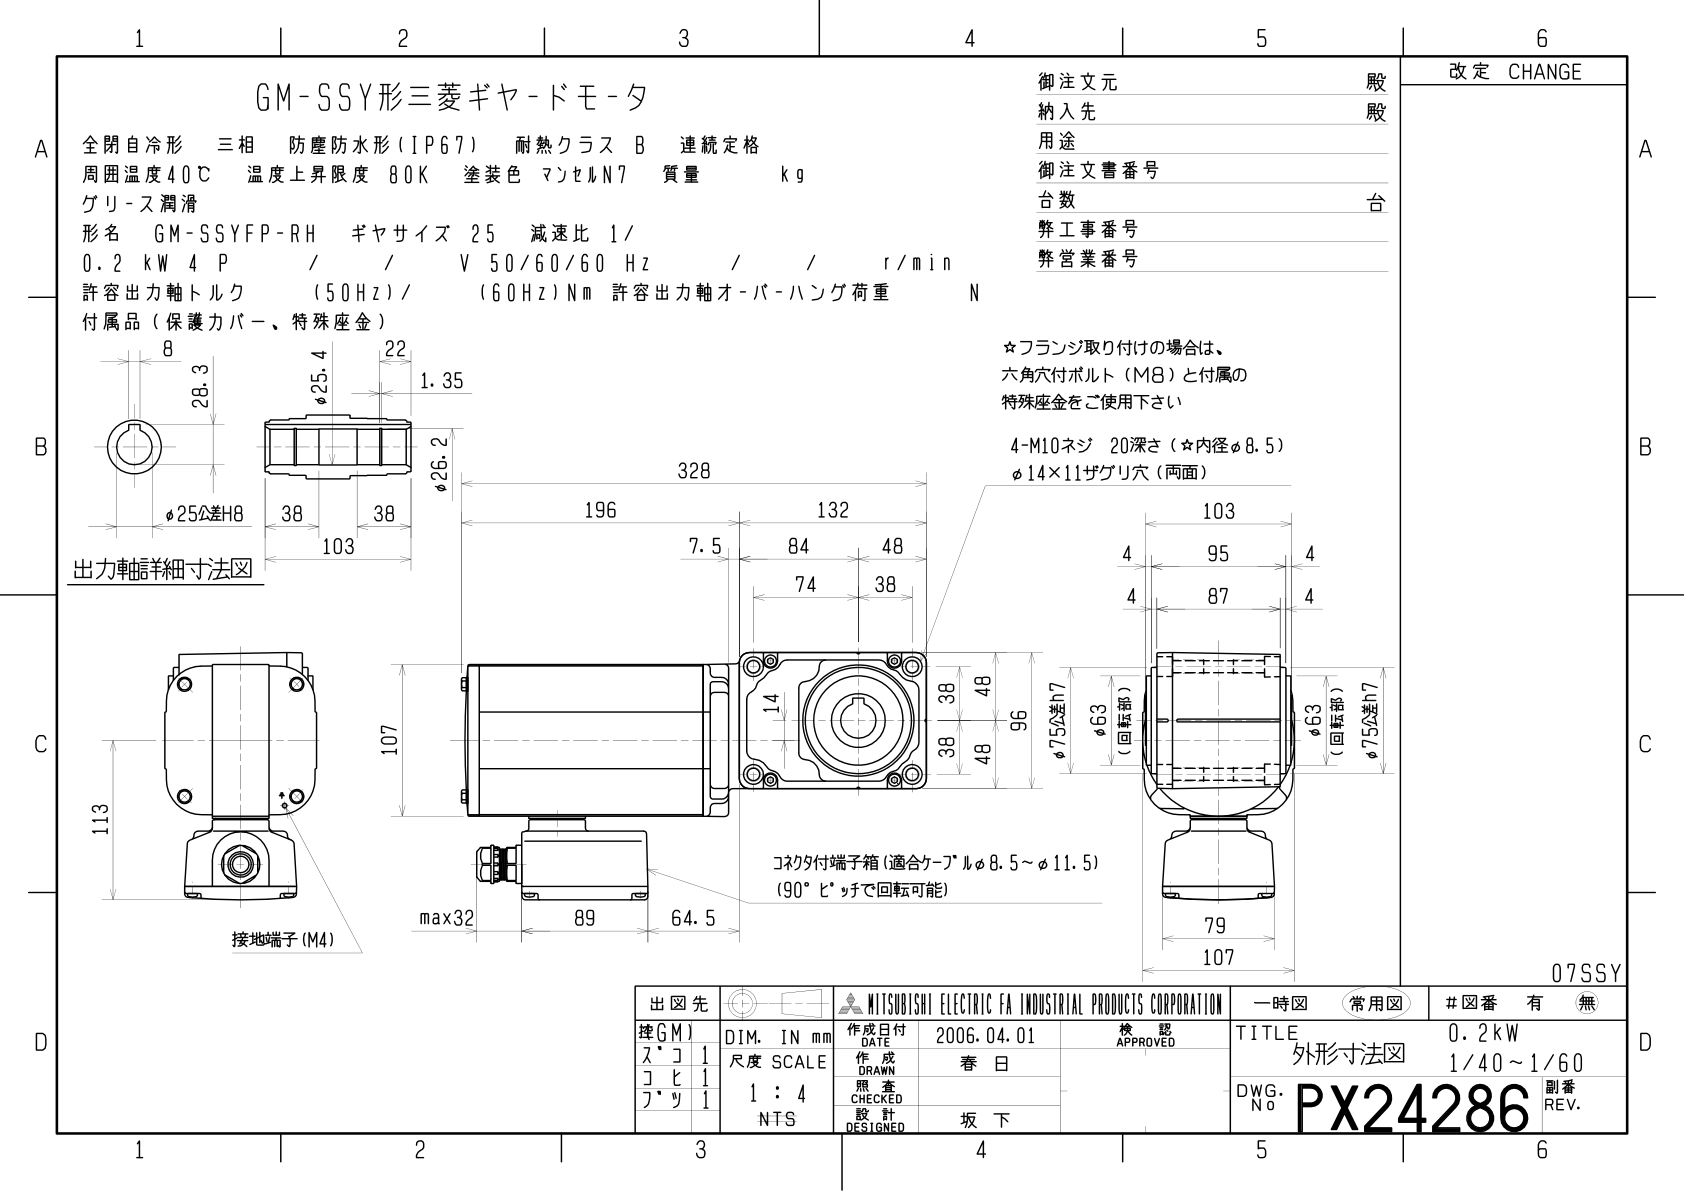GM_SSY_IP67_三相: (64, 335, 1392, 980)
